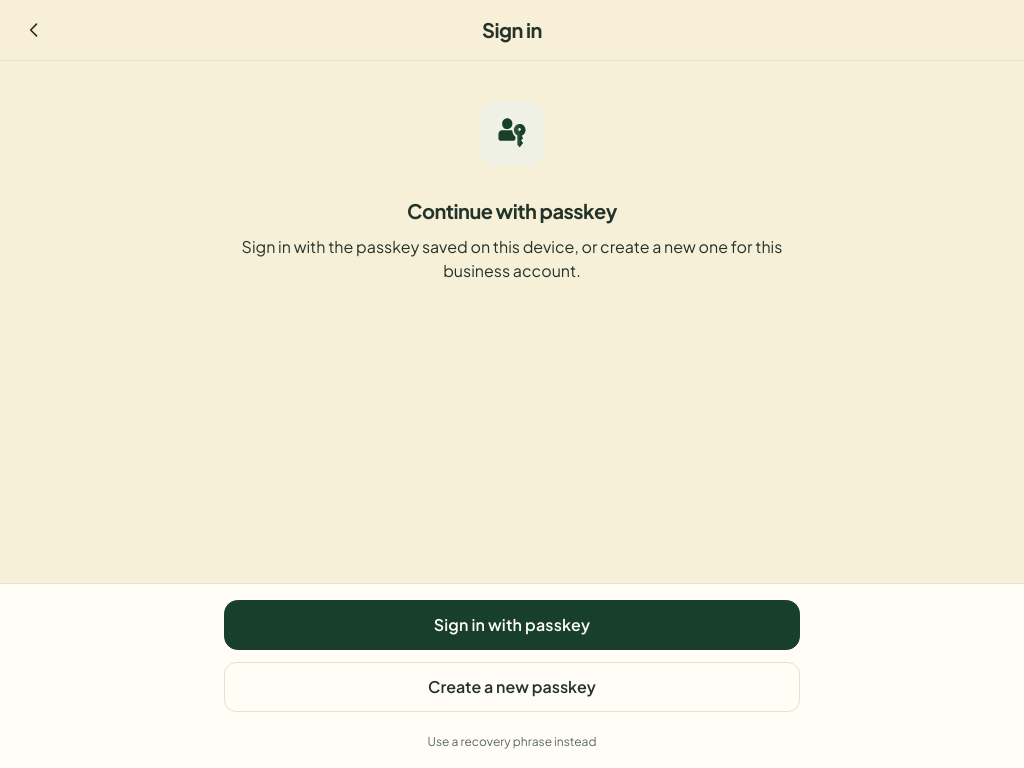
Scenario: PasskeyPage › explains invalid relying-party addresses instead of starting registration
Click the button with test id "passkey-signin-button": (512,625) [224,600,800,650]
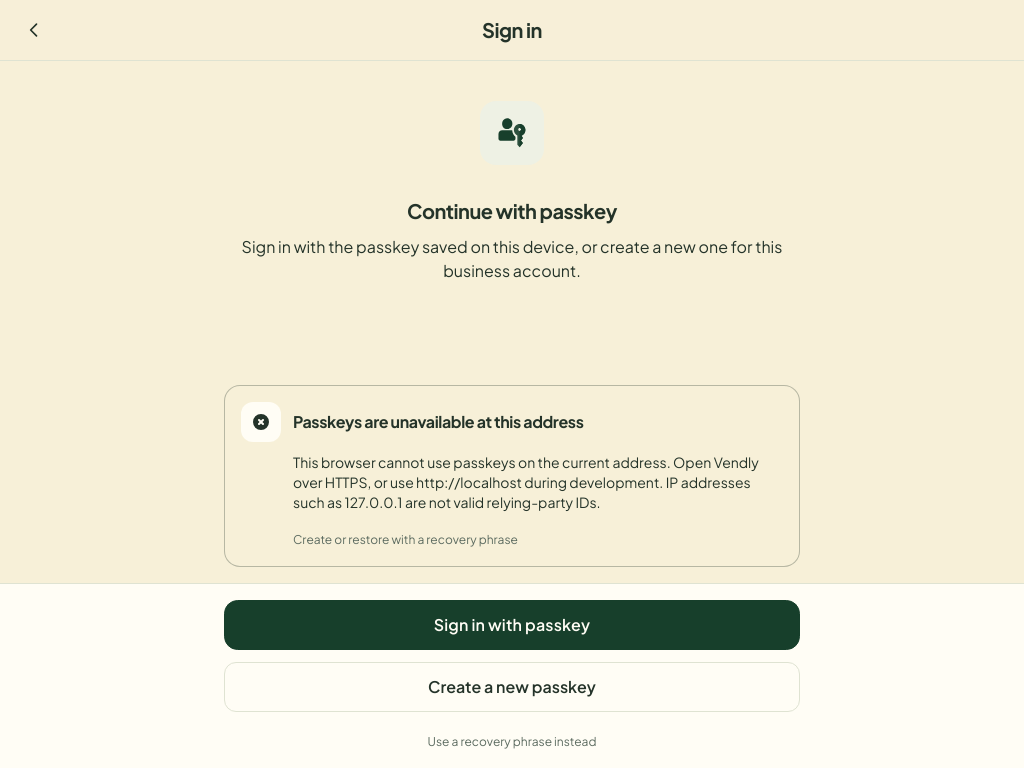
Expected: the heading "Passkeys are unavailable at this address" is shown, [293,410,584,434]
